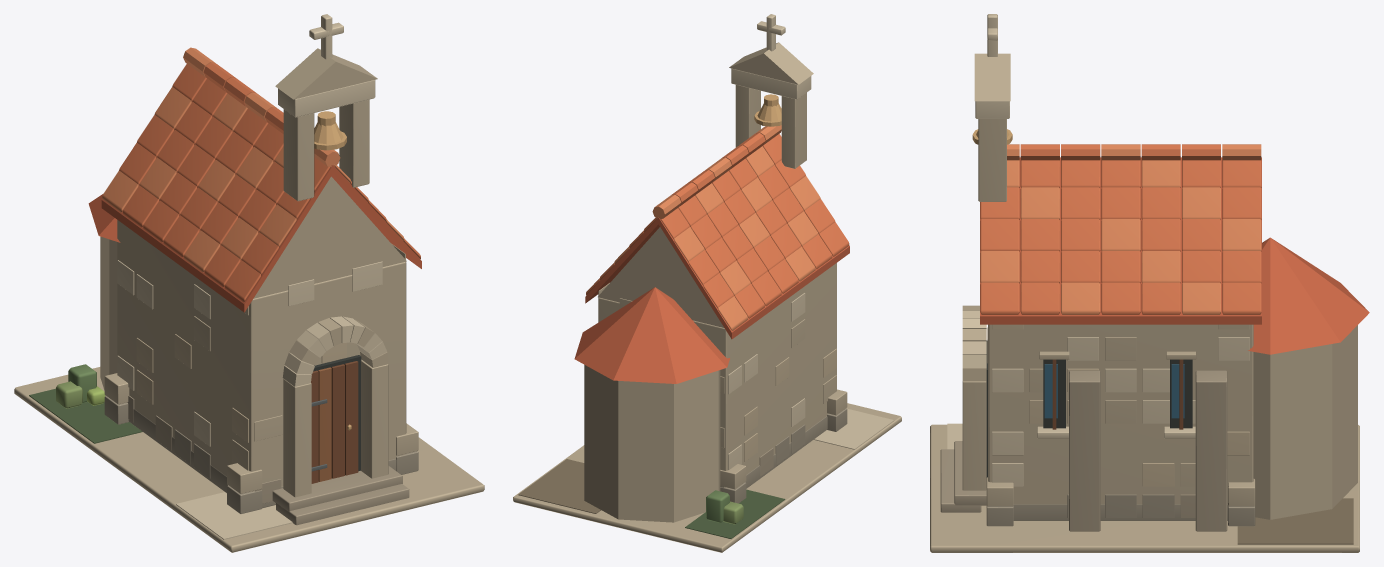
Rendered from chapel.glb.
The picture shows the model from 3 angles, left to right: view 1: azimuth 30°, elevation 25°; view 2: azimuth 150°, elevation 25°; view 3: azimuth 270°, elevation 25°; orthographic projection. The views are drawn at different scales.
Parts seen in each view (by area): view 1: chapel; view 2: chapel; view 3: chapel.
Boxes of the visible parts, x1,y1,x2,y2 form: chapel: (14, 14, 484, 552); chapel: (513, 14, 901, 552); chapel: (930, 14, 1369, 552).
Size of the model in its own units: 1.92 by 3.49 by 2.91.
